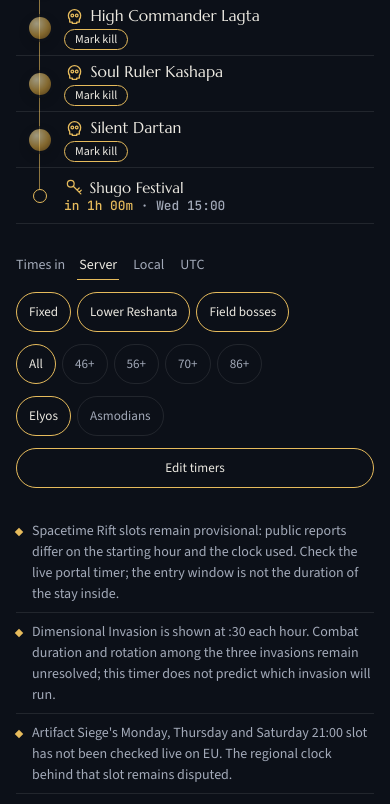
Scenario: the faction switch renames and retimes field bosses
(page scrolled)
Click the button "Asmodians": (120, 416) 77,396 -> 164,436
(page scrolled)
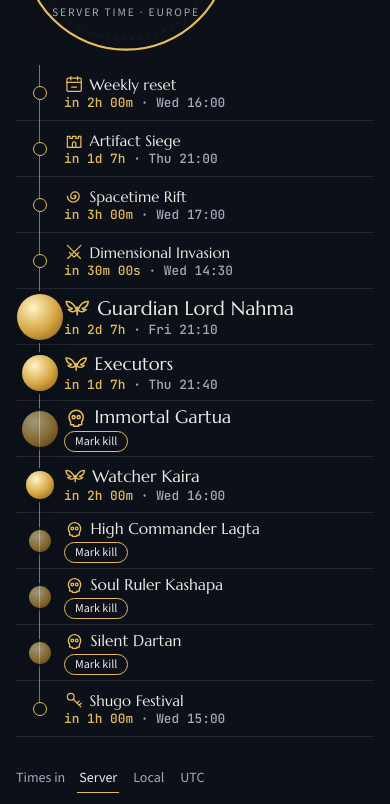
Now the text "Immortal Gartua" is shown, box 64,405 -> 231,429
